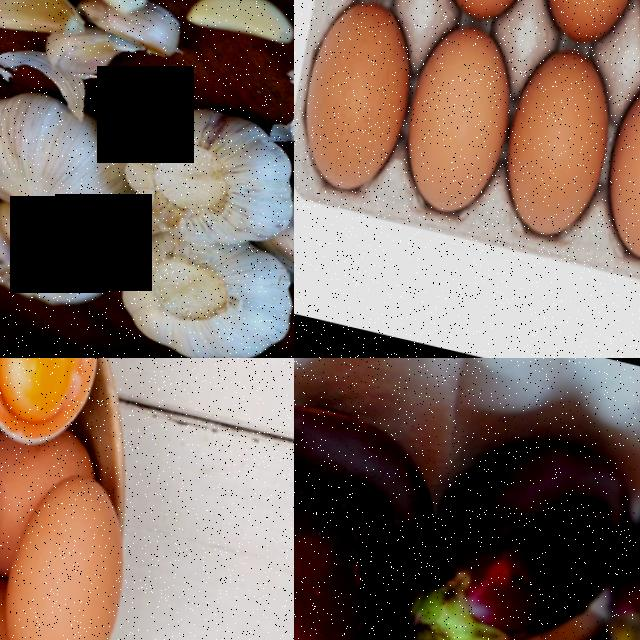egg_: (384, 14, 524, 225), (483, 39, 623, 246), (294, 0, 425, 204), (0, 461, 144, 640), (586, 68, 640, 273), (520, 0, 640, 53), (0, 358, 88, 427)
eggplant: (404, 411, 640, 640), (294, 382, 453, 640), (589, 450, 640, 640)
garlic: (112, 93, 294, 255), (107, 216, 294, 358), (0, 88, 131, 236), (178, 0, 294, 54), (0, 0, 73, 50)
